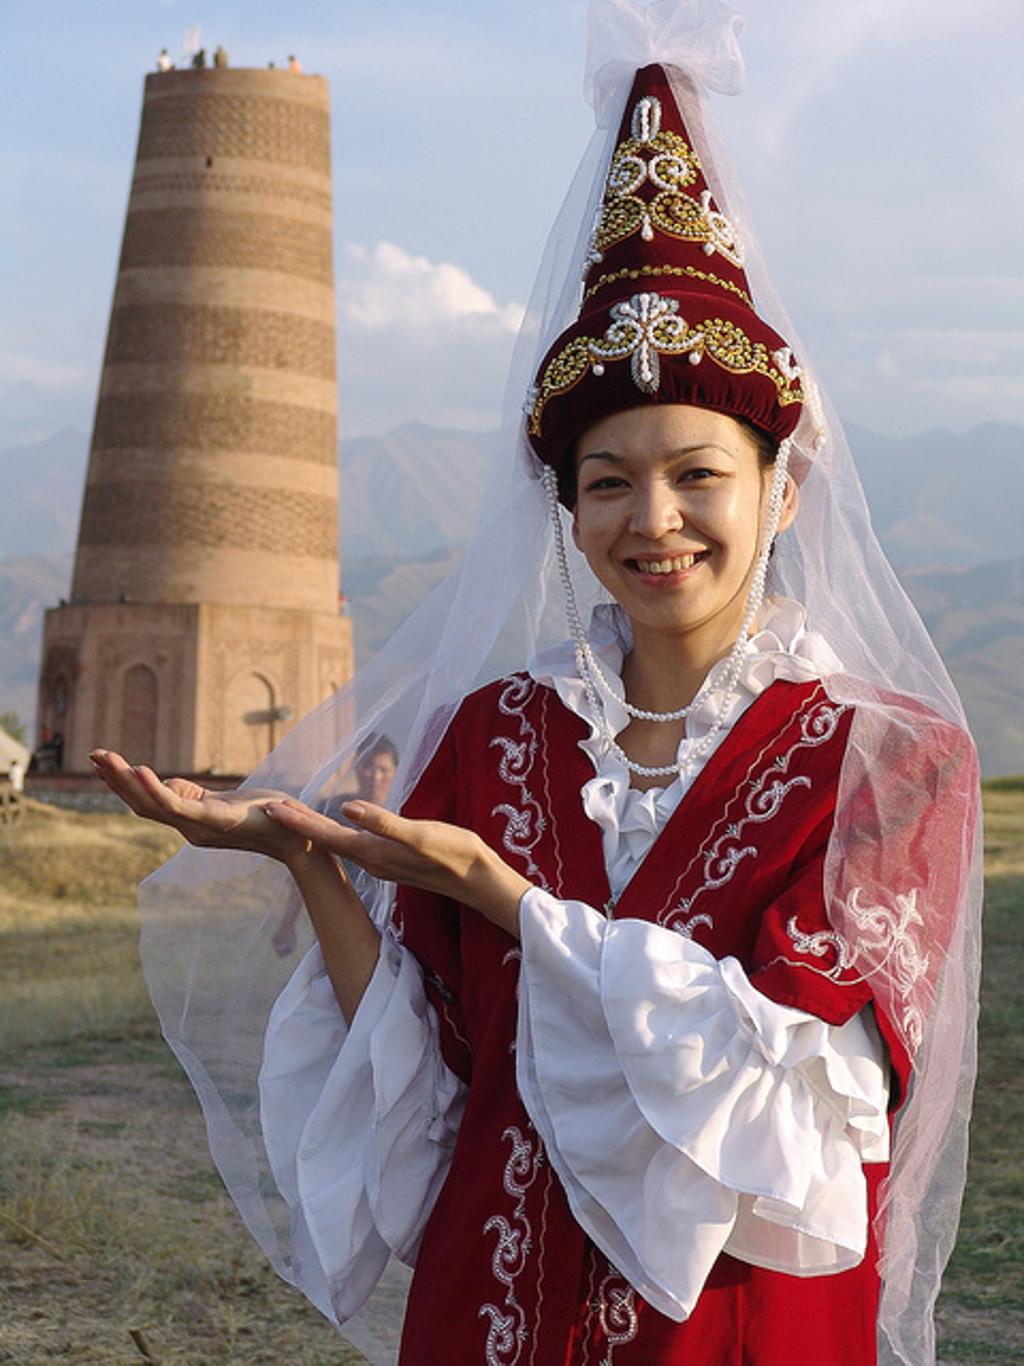face: (573, 336, 765, 629)
